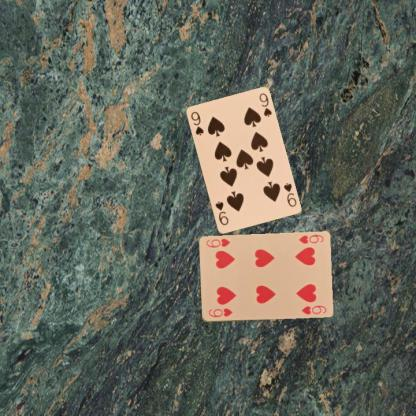6h: (296, 232, 324, 245), (206, 306, 233, 318)
9s: (280, 180, 298, 208), (188, 109, 205, 136)
